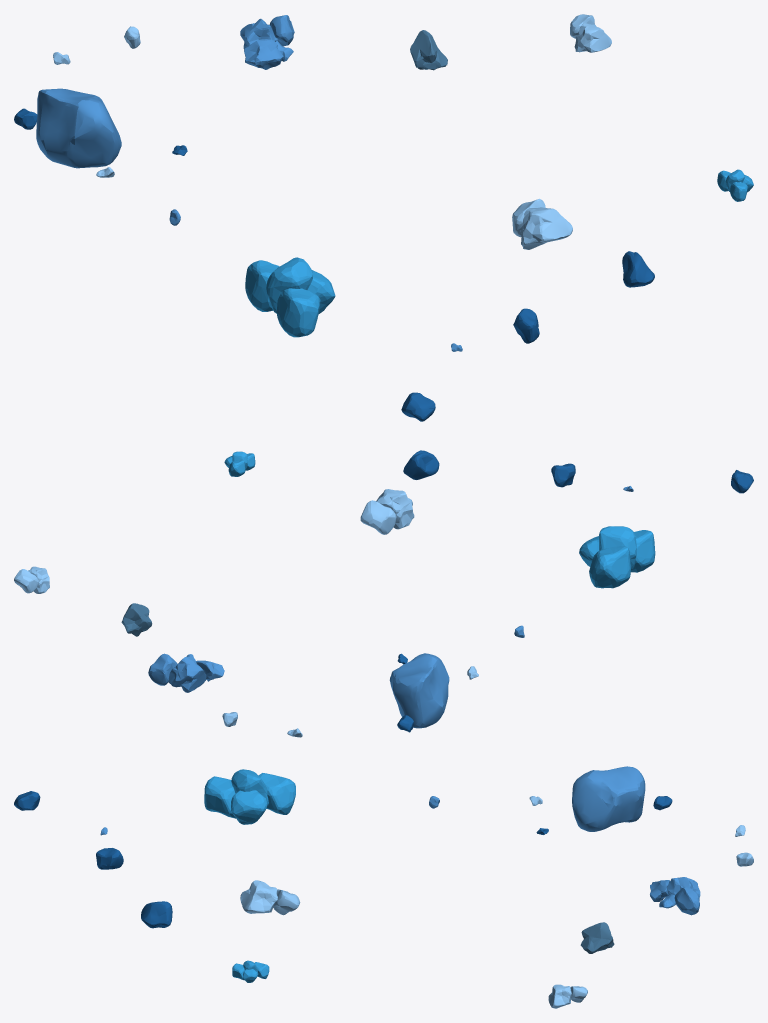
Rendered from rocks_only_0.5mb.glb.
The picture shows the model from 3 angles, top to bottom: view 1: azimuth 30°, elevation 25°; view 2: azimuth 150°, elevation 25°; view 3: azimuth 270°, elevation 25°; orthographic projection. The views are drawn at different scales.
Parts seen in each view (by area): view 1: rock3.006; view 2: rock3.006; view 3: rock3.006.
Boxes of the visible parts, x1=… form: rock3.006: x1=14, y1=14, x2=753, y2=421; rock3.006: x1=14, y1=450, x2=753, y2=737; rock3.006: x1=14, y1=766, x2=753, y2=1008.
Size of the model in its own units: 52.17 by 6.2 by 77.16.
